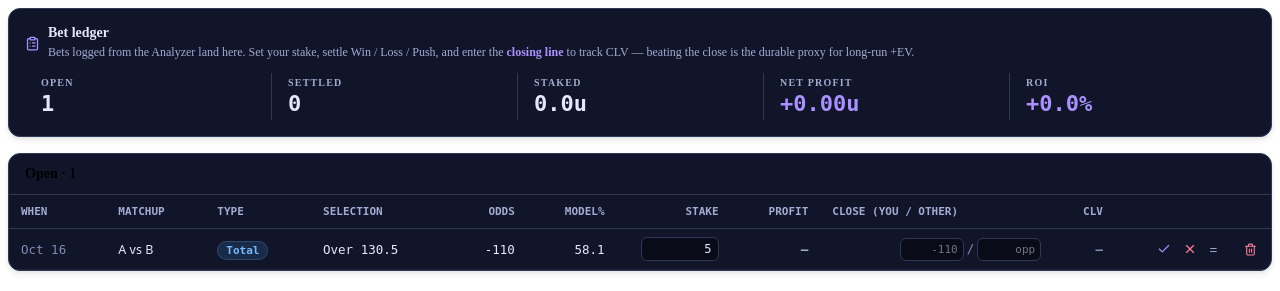
Test: BetLogger › settles a loss as negative stake
The width and height of the screenshot is (1280, 291).
Click the button titled "Loss": coordinates (1190, 249) [1180,238,1202,261]
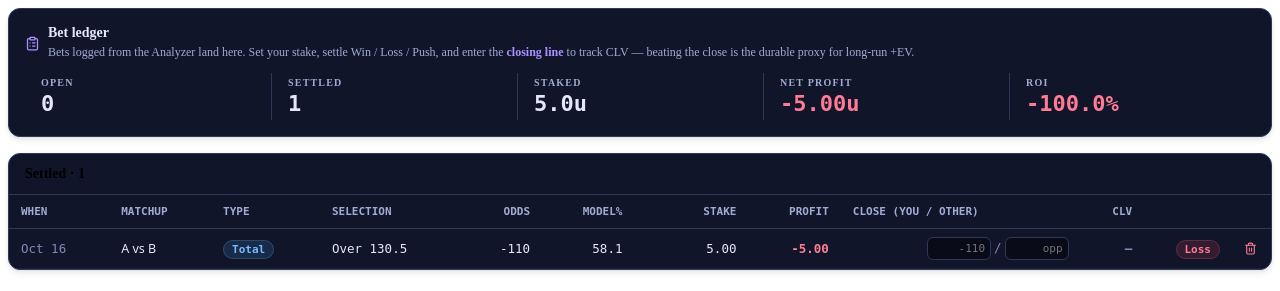
Check: the text "-5.00" is shown, box [748,229,841,269]
